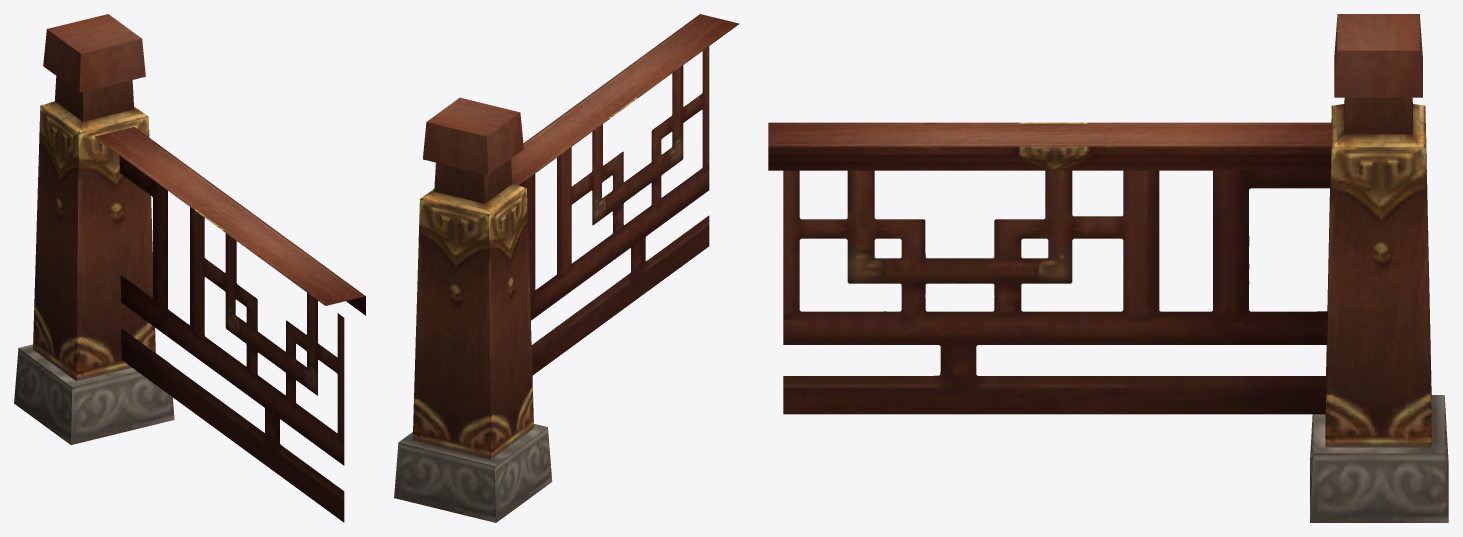
File: cj_luoyang_langan01_53_29_2162out.fbx
3 renders of one model, left to right at view 1: azimuth 30°, elevation 25°; view 2: azimuth 150°, elevation 25°; view 3: azimuth 270°, elevation 25°, orthographic. The views are drawn at different scales.
Parts seen in each view (by area): view 1: cj_luoyang_langan01; view 2: cj_luoyang_langan01; view 3: cj_luoyang_langan01.
Part boxes in pixels (x1=…): cj_luoyang_langan01: x1=14, y1=14, x2=365, y2=522; cj_luoyang_langan01: x1=394, y1=14, x2=739, y2=522; cj_luoyang_langan01: x1=768, y1=14, x2=1448, y2=522.
Size of the model in its own units: 0.4295 by 1.5 by 2.01.
